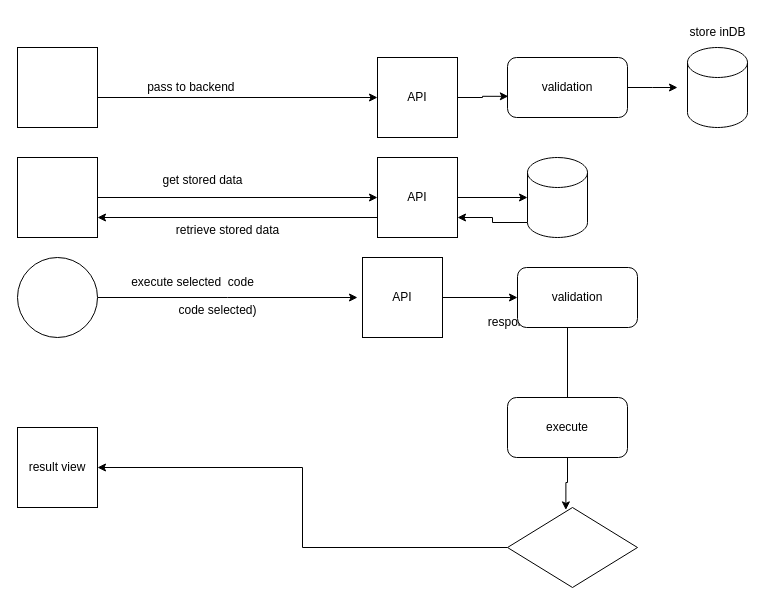
The diagram is 775 pixels wide and 605 high, and some of its shapes have lost their labels. The shapes that lost their labels are listed below. From the top down, each one's centre as x and y in pixels, then its label:
At [57,87]: "code editor".
At [57,197]: "view code list".
At [572,547]: "error handling".
